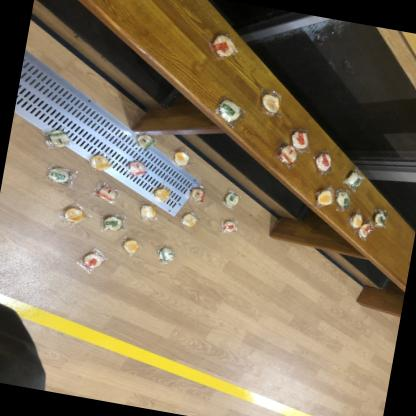green_setoshio: (209, 93, 251, 129), (42, 162, 81, 191), (42, 124, 76, 152), (96, 210, 130, 234), (341, 168, 369, 194), (368, 204, 393, 230), (218, 186, 245, 210), (154, 242, 178, 266), (334, 190, 356, 214), (136, 133, 160, 153)
red_setoshio: (204, 29, 244, 62), (76, 246, 108, 276), (273, 143, 303, 170), (285, 127, 315, 154), (92, 182, 123, 207), (310, 147, 336, 175), (123, 157, 151, 177), (215, 214, 241, 235), (356, 220, 378, 244), (187, 186, 210, 206)
yellow_setoshio: (254, 86, 286, 117), (56, 200, 88, 229), (308, 184, 338, 212), (169, 146, 195, 170), (118, 234, 142, 258), (134, 201, 160, 222), (88, 152, 112, 174), (149, 184, 173, 202), (180, 210, 199, 232), (350, 212, 364, 230)
